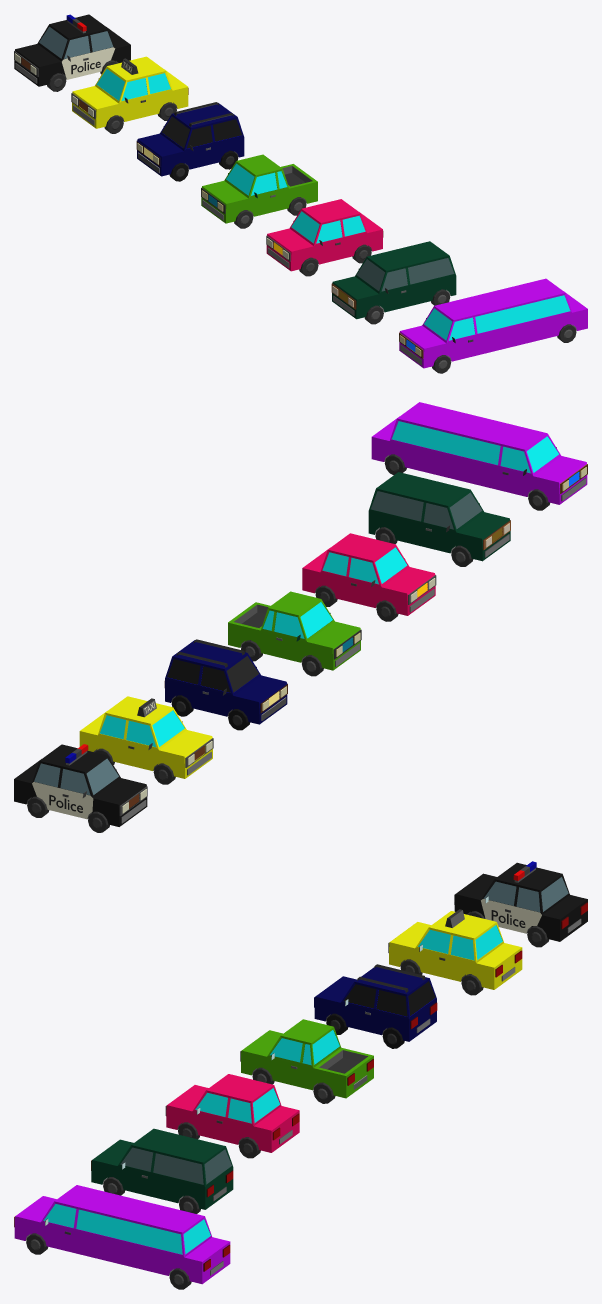
File: low_poly_cars.glb
3 renders of one model, top to bottom at view 1: azimuth 30°, elevation 25°; view 2: azimuth 150°, elevation 25°; view 3: azimuth 330°, elevation 25°, orthographic. The views are drawn at different scales.
Parts seen in each view (by area): view 1: Limousine, Van, Taxi, Car, SUV, Police, Pickup; view 2: Limousine, Van, Police, Car, SUV, Taxi, Pickup; view 3: Limousine, Van, Car, Taxi, Police, SUV, Pickup.
Boxes of the visible parts, x1,y1,x2,y2 form: Limousine: (399,278,587,373); Van: (331,241,456,324); Taxi: (71,56,188,133); Car: (266,199,383,276); SUV: (136,102,244,181); Police: (14,14,130,91); Pickup: (201,154,317,228); Limousine: (371,402,587,510); Van: (368,472,510,566); Police: (14,744,147,832); Car: (302,533,436,621); SUV: (164,639,287,730); Taxi: (79,696,213,784); Pickup: (228,591,361,676); Limousine: (14,1185,230,1289); Van: (91,1128,233,1213); Car: (165,1074,299,1158); Taxi: (388,909,522,995); Police: (454,861,587,947); SUV: (314,964,437,1048); Pickup: (240,1019,373,1103).
Size of the model in its own units: 5.92 by 1.89 by 25.48.
Materials: 1 (1 with a texture image).
